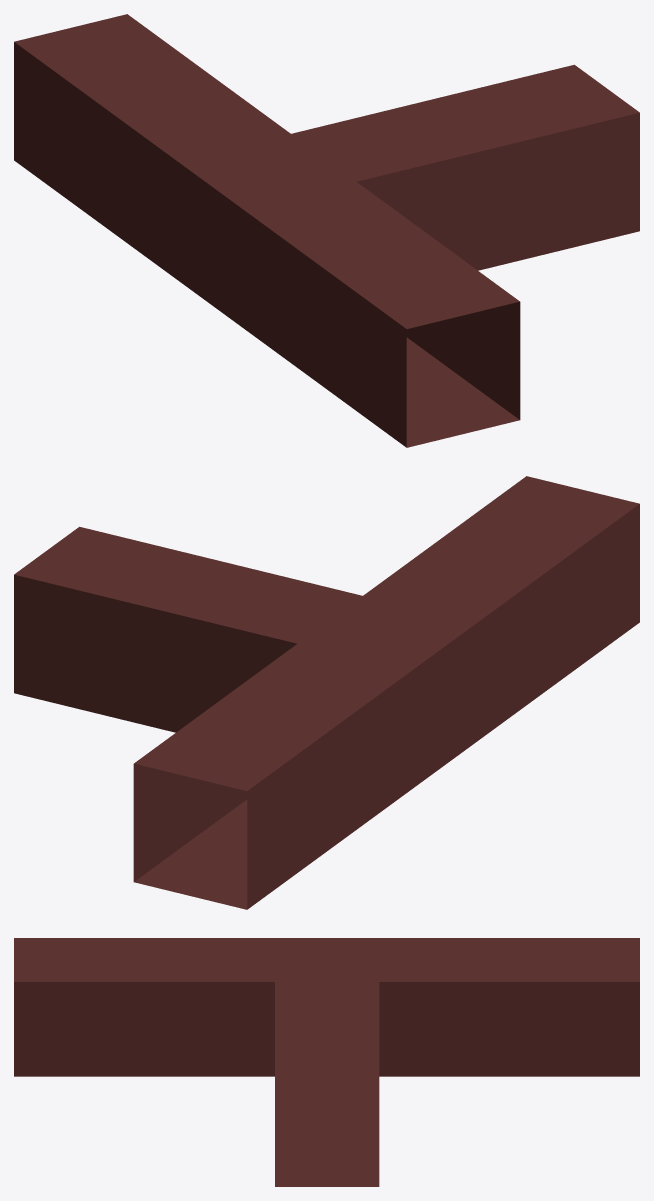
File: PlankCross_2.fbx
3 renders of one model, top to bottom at view 1: azimuth 30°, elevation 25°; view 2: azimuth 150°, elevation 25°; view 3: azimuth 270°, elevation 25°, orthographic. The views are drawn at different scales.
Parts seen in each view (by area): view 1: PlankCross_2; view 2: PlankCross_2; view 3: PlankCross_2.
Boxes of the visible parts, bbox=[...] form: PlankCross_2: bbox=[14, 14, 639, 447]; PlankCross_2: bbox=[14, 476, 639, 909]; PlankCross_2: bbox=[14, 938, 639, 1186].
Size of the model in its own units: 1.4 by 2.4 by 0.4.
